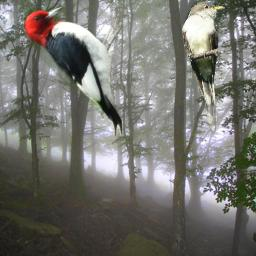Cuckoo: (182, 0, 225, 134)
Woodpecker: (24, 5, 122, 136)
